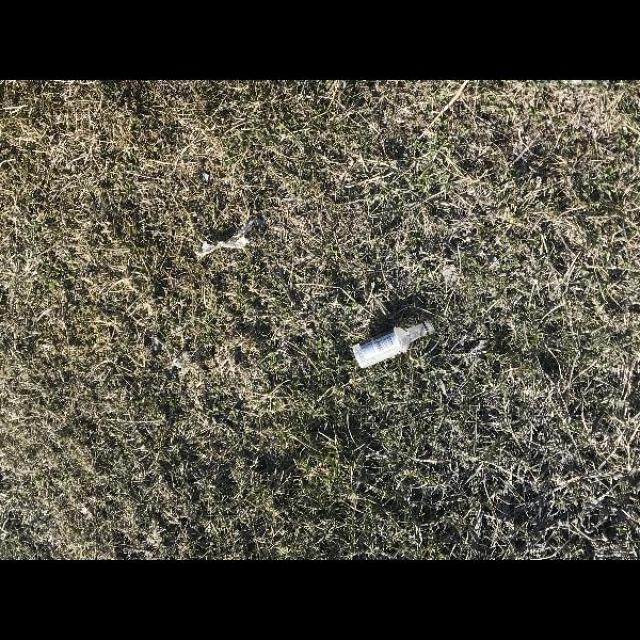plastic_waste: (331, 303, 448, 387), (174, 215, 265, 270)
